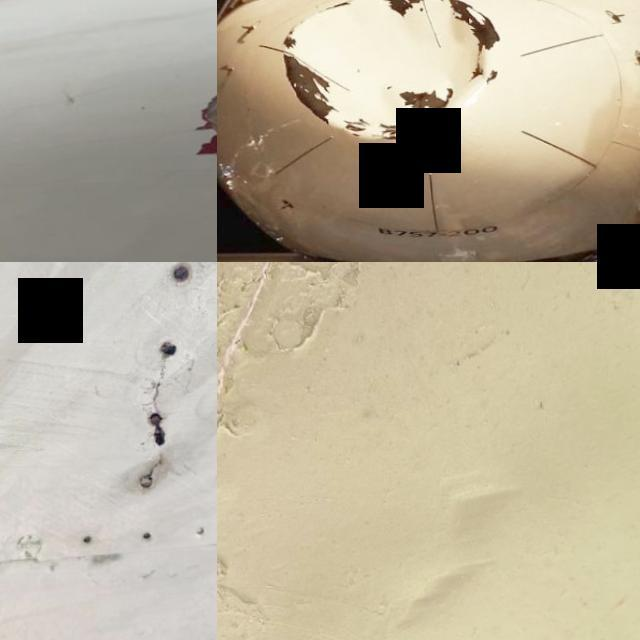Crack: (105, 24, 217, 228), (114, 362, 204, 502)
Dent: (359, 464, 561, 640), (280, 0, 501, 137)
